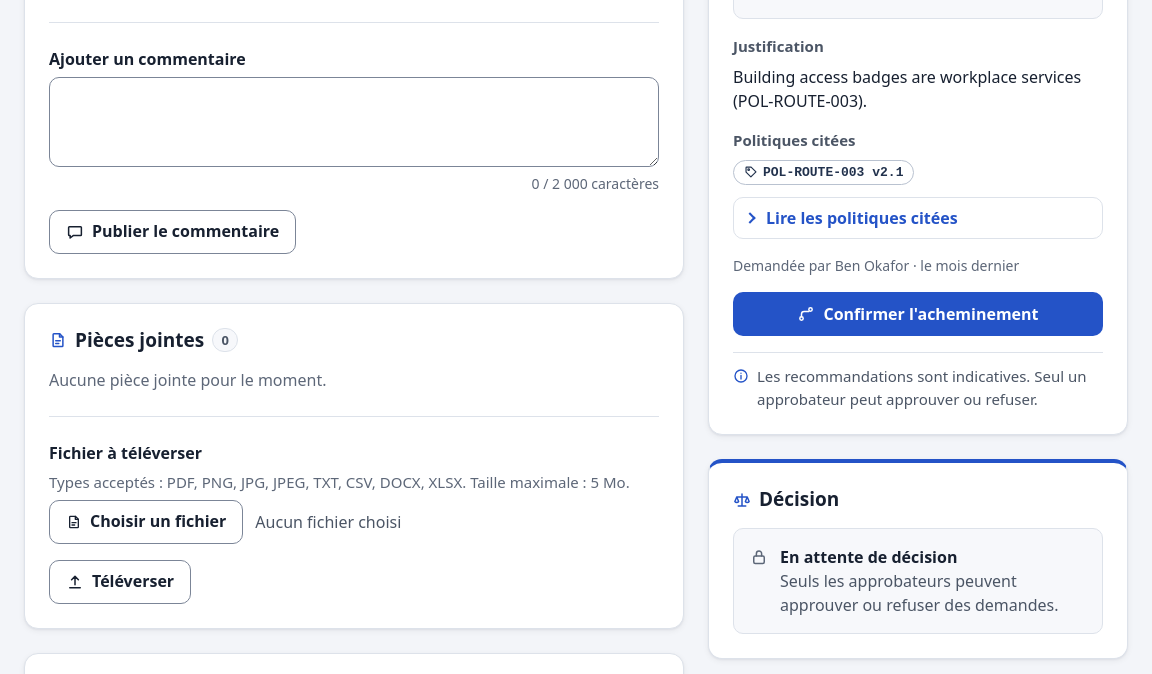
Scenario: TriagePanel › confirms through the additive endpoint, refreshes detail and history, and localizes the confirmation
Later steps or results of the test are not shown.
(page scrolled)
Click the button "Confirmer l'acheminement" at (918, 314), box x1=733 y1=292 x2=1103 y2=336
(page scrolled)
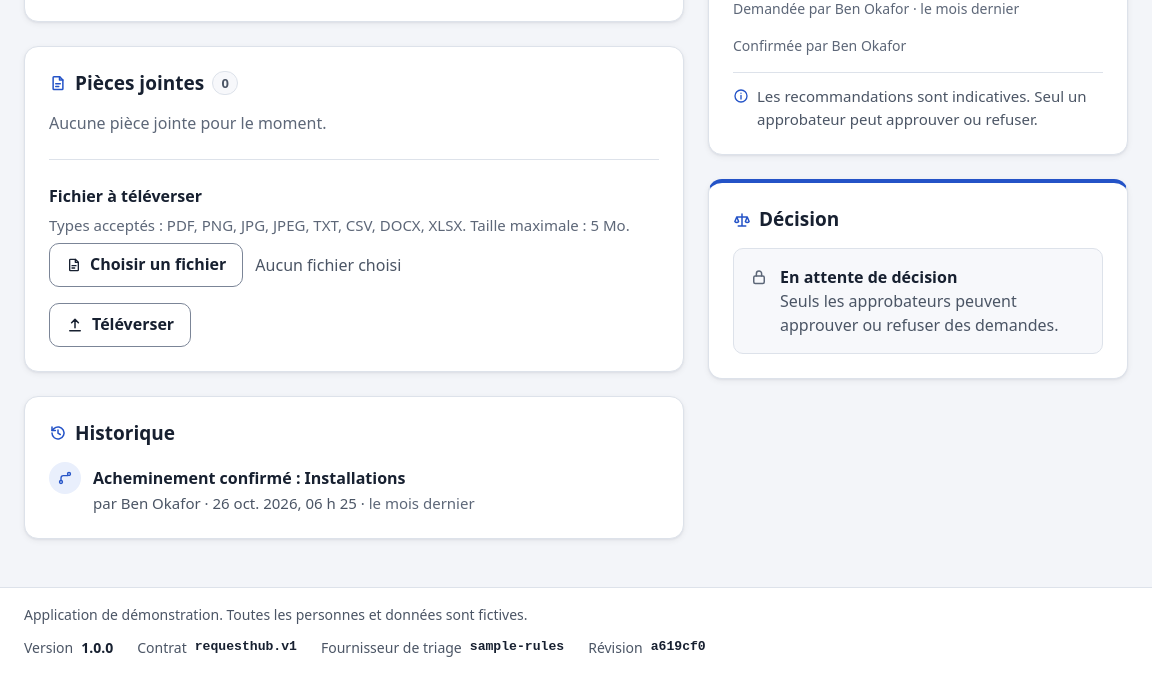
expect the text "Confirmée par Ben Okafor" is shown: met, box x1=733 y1=36 x2=906 y2=55
expect the text "Acheminement confirmé : Installations" is shown: met, box x1=93 y1=466 x2=406 y2=488
expect the button "Confirmer l'acheminement" is gone: met
